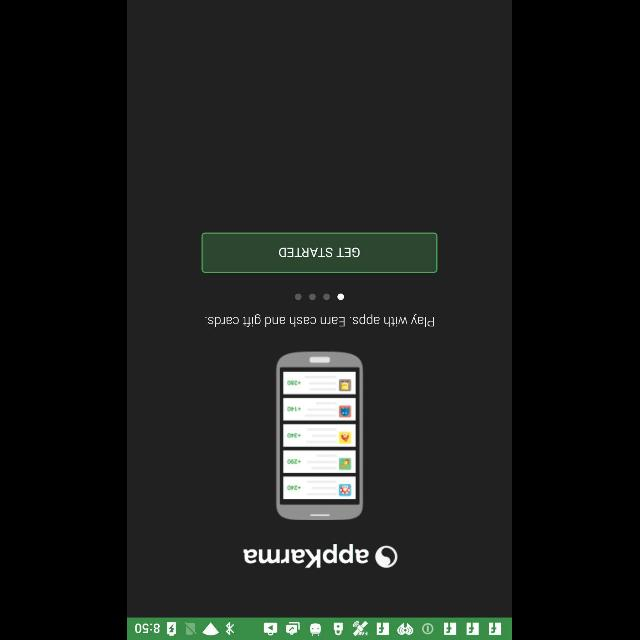image: (277, 352, 365, 520), (244, 544, 398, 568)
pageindicator: (295, 293, 345, 301)
text: (206, 314, 434, 328)
textbutton: (202, 233, 438, 273)
uppertaskbar: (128, 617, 512, 639)
